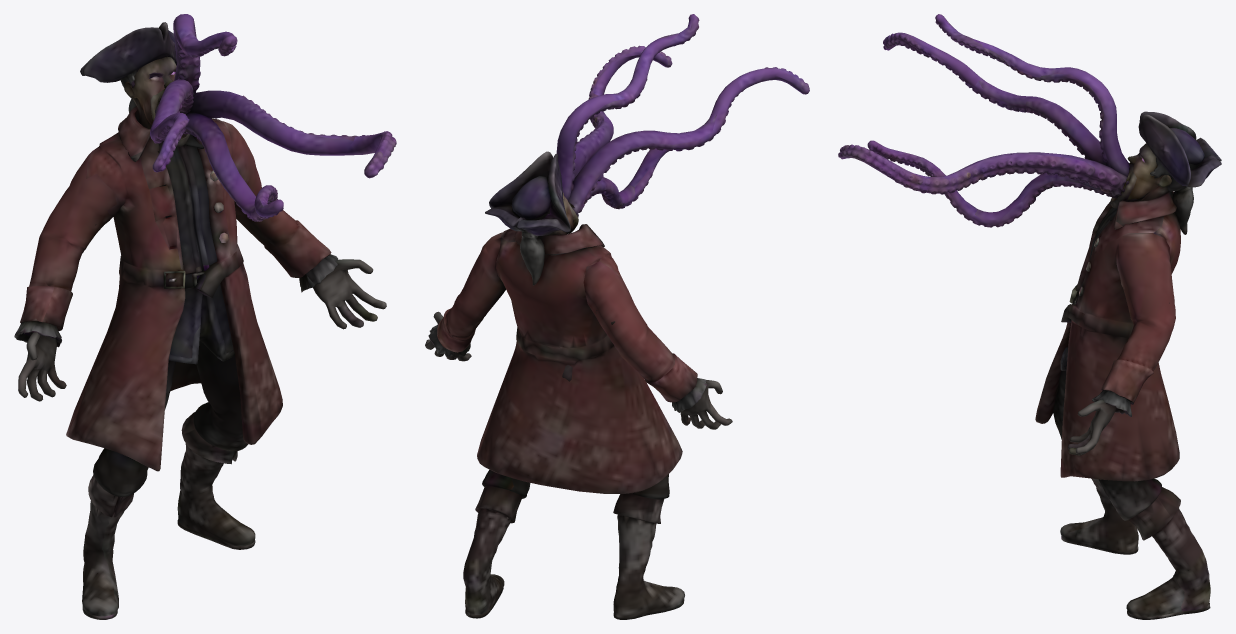
File: MZ4250 - Aberrant Pirate Captain.glb
3 renders of one model, left to right at view 1: azimuth 30°, elevation 25°; view 2: azimuth 150°, elevation 25°; view 3: azimuth 270°, elevation 25°, orthographic. The views are drawn at different scales.
Visible parts, largest first — view 1: Jacket Coat.001; view 2: Jacket Coat.001; view 3: Jacket Coat.001.
Boxes of the visible parts, <box> form: Jacket Coat.001: <box>14,14,396,619</box>; Jacket Coat.001: <box>425,14,809,619</box>; Jacket Coat.001: <box>838,14,1221,619</box>.
Bounding box in the file's own units: 63.49 × 105 × 66.39.
Materials: 1 (1 with a texture image).
